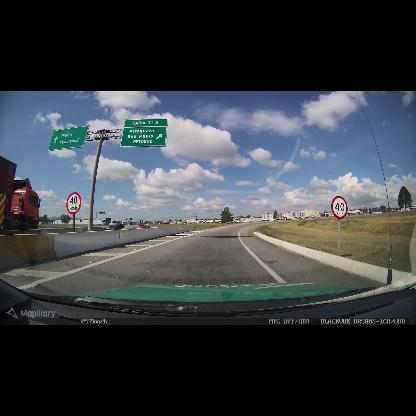O-MP: (0, 193, 7, 229)
R-19: (331, 196, 348, 219), (66, 192, 82, 215)
